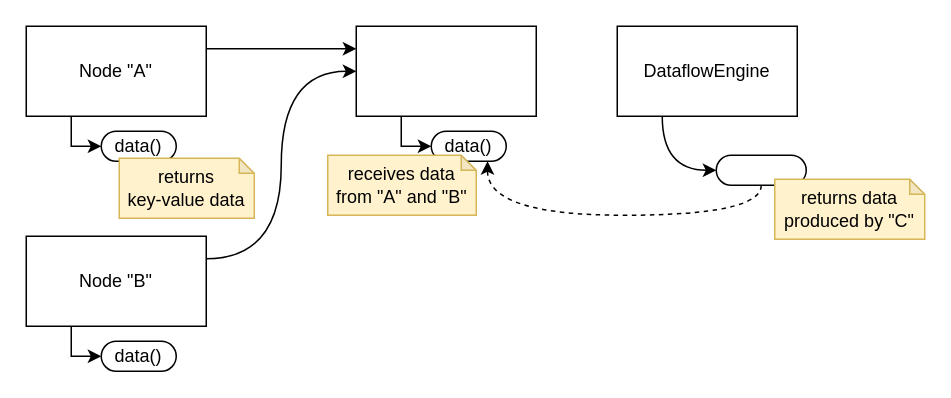
The diagram is 951 pixels wide and 398 high, and some of its shapes have lost their labels. Here are the shapes that lost their labels. From the top down, the centre of each, then its label:
pixel 445 70: Node "C"
pixel 760 169: fetch "C"
